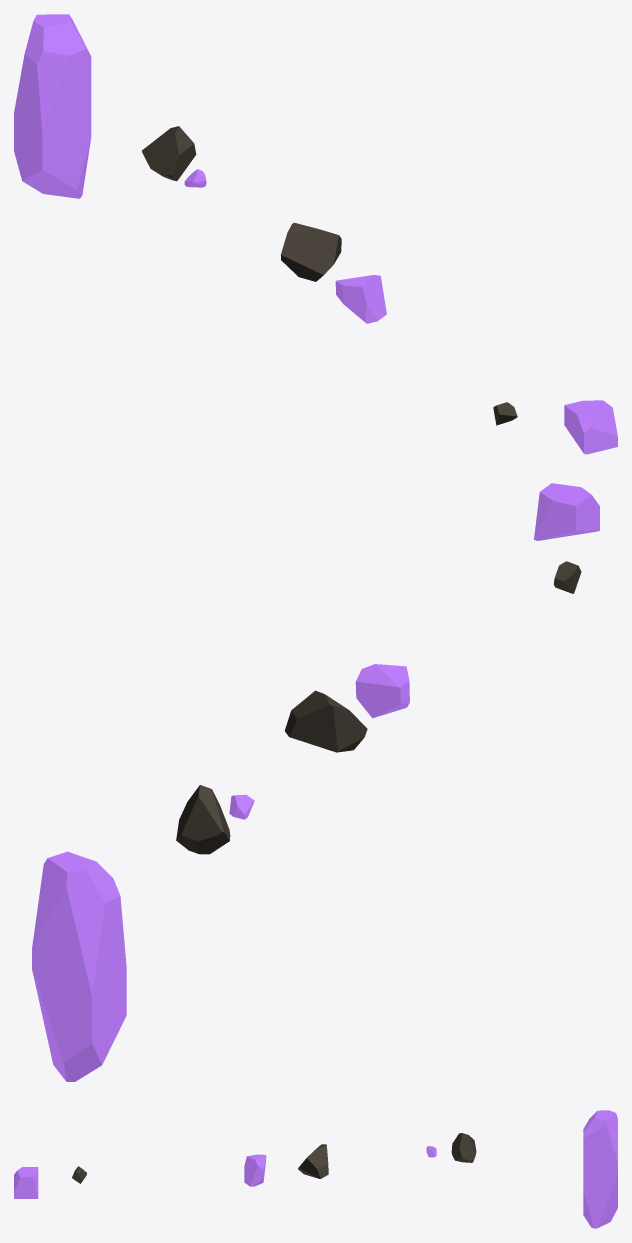
The model's file is fragment-compressed.glb.
3 views of the same model, one above another, from view 1: azimuth 30°, elevation 25°; view 2: azimuth 150°, elevation 25°; view 3: azimuth 270°, elevation 25° (orthographic). The views are drawn at different scales.
Parts seen in each view (by area): view 1: main, Cube.030, Cube.018, Cube.024, Cube.016; view 2: main, Cube.030, Cube.018, Cube.024, Cube.016; view 3: main, Cube.018, Cube.030, Cube.016, Cube.024.
Part boxes in pixels (box(x1,y1,x2,y2)): main: box(14, 14, 91, 198); Cube.030: box(281, 222, 341, 281); Cube.018: box(564, 400, 617, 454); Cube.024: box(142, 126, 196, 181); Cube.016: box(335, 275, 386, 323); main: box(32, 851, 126, 1081); Cube.030: box(285, 690, 367, 752); Cube.018: box(534, 483, 599, 540); Cube.024: box(176, 785, 230, 854); Cube.016: box(355, 664, 409, 718); main: box(583, 1110, 617, 1228); Cube.018: box(14, 1167, 38, 1198); Cube.030: box(298, 1144, 328, 1178); Cube.016: box(244, 1154, 266, 1186); Cube.024: box(451, 1133, 476, 1162).
Size of the model in its own units: 0.5708 by 0.8496 by 4.33.
